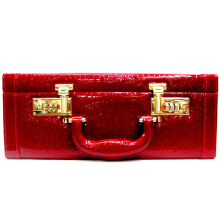shoutibox: (2, 71, 219, 160)
